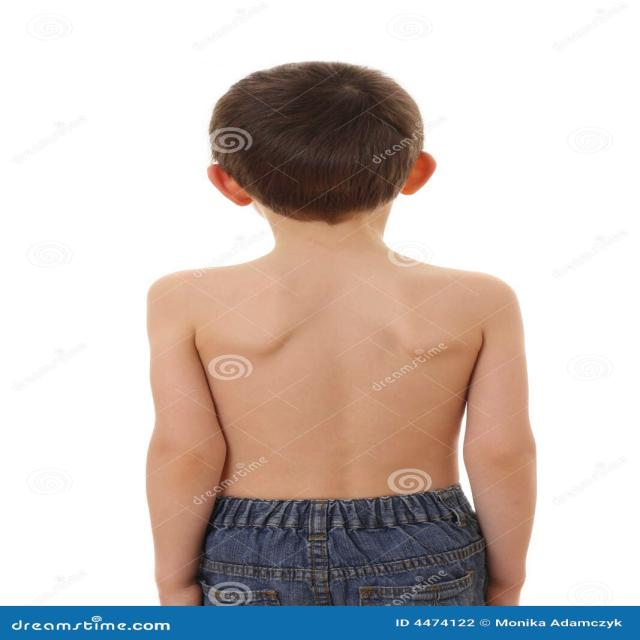child: (139, 63, 534, 605)
